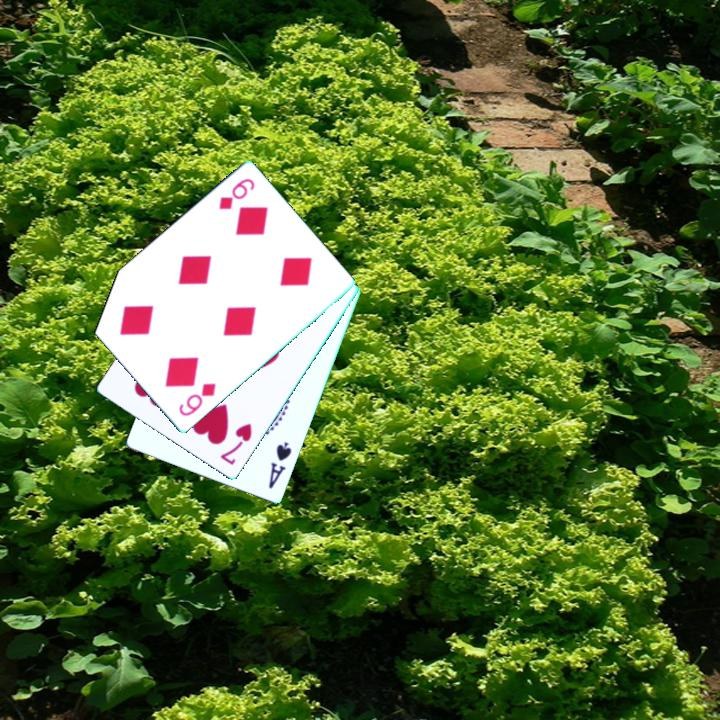6d: (175, 380, 219, 420), (215, 175, 258, 213)
7h: (217, 420, 255, 469)
As: (265, 440, 295, 492)
